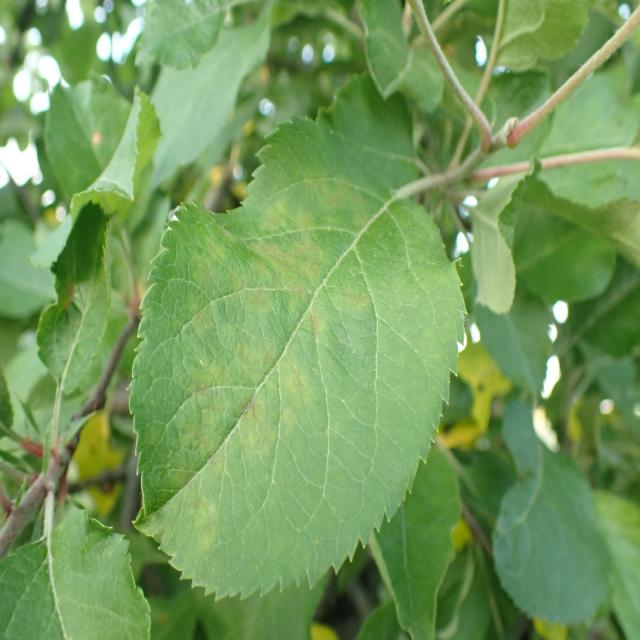scab: (147, 135, 407, 581)
